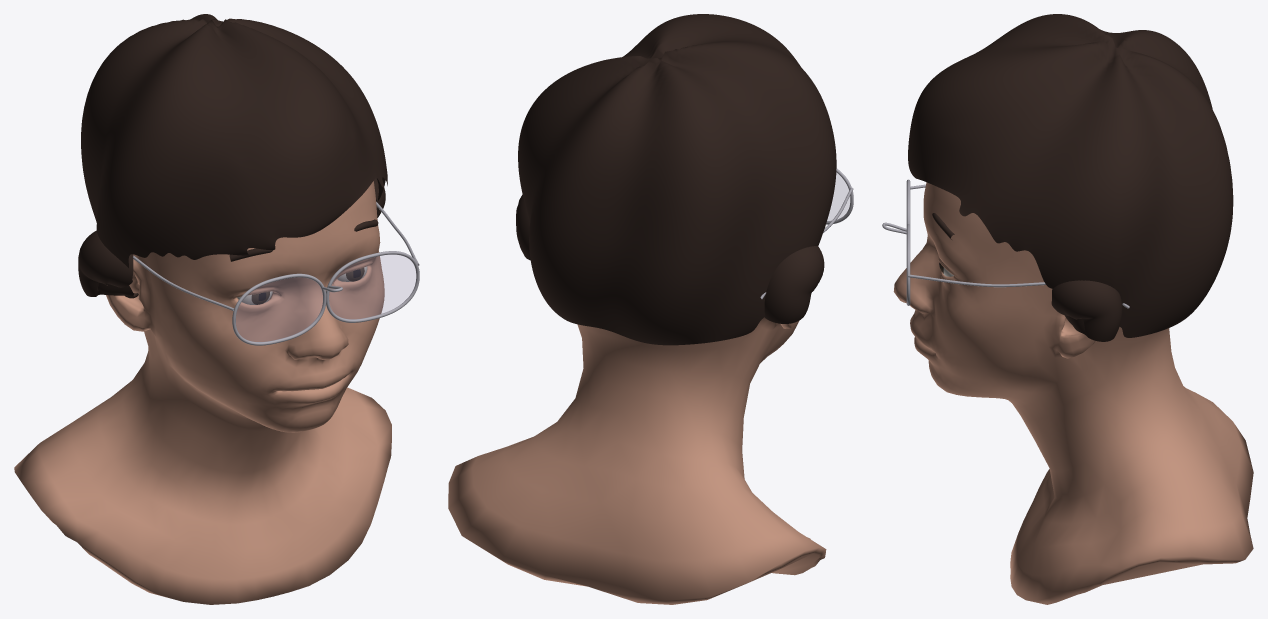
File: temporary-head.glb
3 renders of one model, left to right at view 1: azimuth 30°, elevation 25°; view 2: azimuth 150°, elevation 25°; view 3: azimuth 270°, elevation 25°, orthographic. The views are drawn at different scales.
Parts seen in each view (by area): view 1: Head_Neck_Shoulders | connected base, Hair | connected cranial wave study, Lens -1, Lens 1, Glasses rim -1, Glasses rim 1; view 2: Hair | connected cranial wave study, Head_Neck_Shoulders | connected base, Lens -1; view 3: Hair | connected cranial wave study, Head_Neck_Shoulders | connected base, Glasses temple 1.
Boxes of the visible parts, <box> form: Head_Neck_Shoulders | connected base: <box>14,181,391,604</box>; Hair | connected cranial wave study: <box>78,14,387,298</box>; Lens -1: <box>236,277,322,341</box>; Lens 1: <box>329,255,416,319</box>; Glasses rim -1: <box>232,273,326,345</box>; Glasses rim 1: <box>326,251,419,322</box>; Hair | connected cranial wave study: <box>516,14,836,345</box>; Head_Neck_Shoulders | connected base: <box>448,317,826,604</box>; Lens -1: <box>827,173,849,220</box>; Hair | connected cranial wave study: <box>908,14,1233,341</box>; Head_Neck_Shoulders | connected base: <box>893,182,1253,604</box>; Glasses temple 1: <box>908,274,1129,308</box>.
Bounding box in the file's own units: 1.37 × 2.02 × 1.27.
